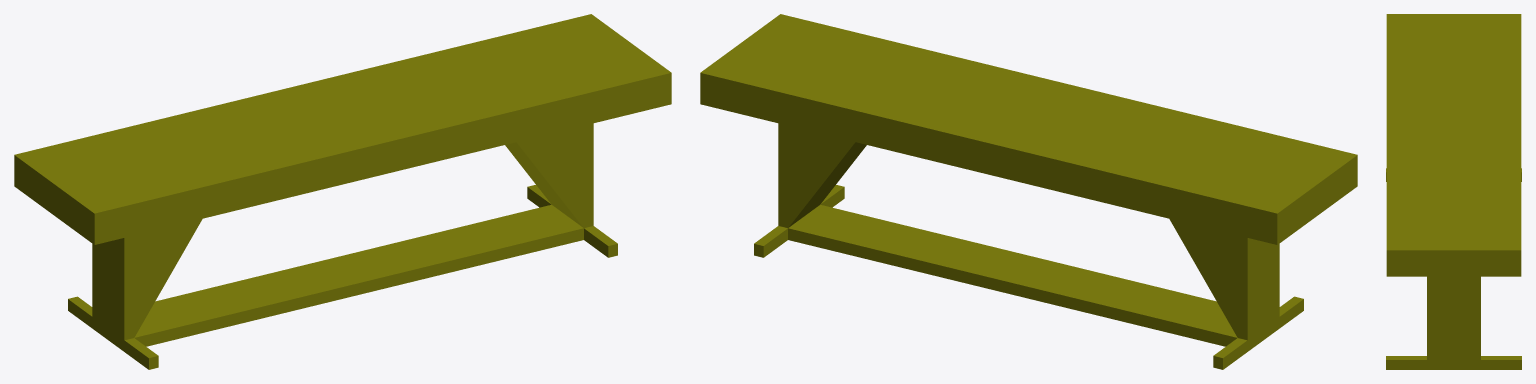
The model's file is table.fbx.
The picture shows the model from 3 angles, left to right: view 1: azimuth 30°, elevation 25°; view 2: azimuth 150°, elevation 25°; view 3: azimuth 270°, elevation 25°; orthographic projection. The views are drawn at different scales.
Parts seen in each view (by area): view 1: Cube.038; view 2: Cube.038; view 3: Cube.038.
Part boxes in pixels (x1=…): Cube.038: x1=14, y1=14, x2=671, y2=369; Cube.038: x1=700, y1=14, x2=1357, y2=369; Cube.038: x1=1386, y1=14, x2=1521, y2=369.
Size of the model in its own units: 3.45 by 0.9665 by 0.8386.
